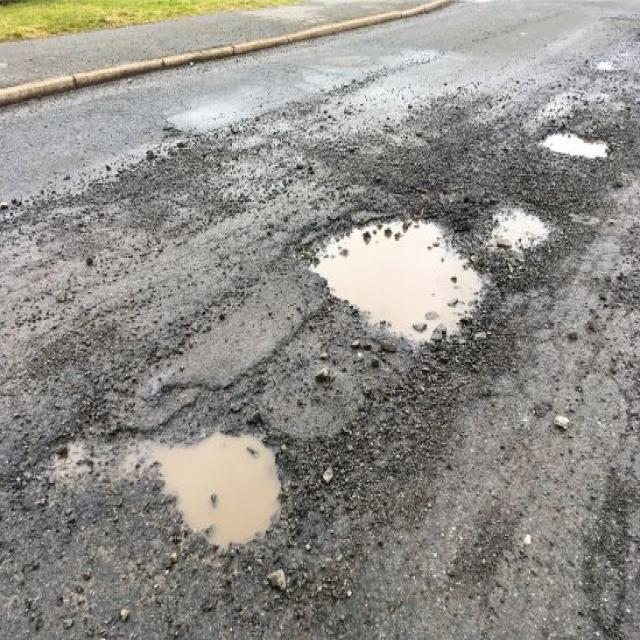Pothole: (109, 407, 303, 556), (293, 213, 495, 348), (487, 188, 563, 264), (538, 122, 623, 158)
